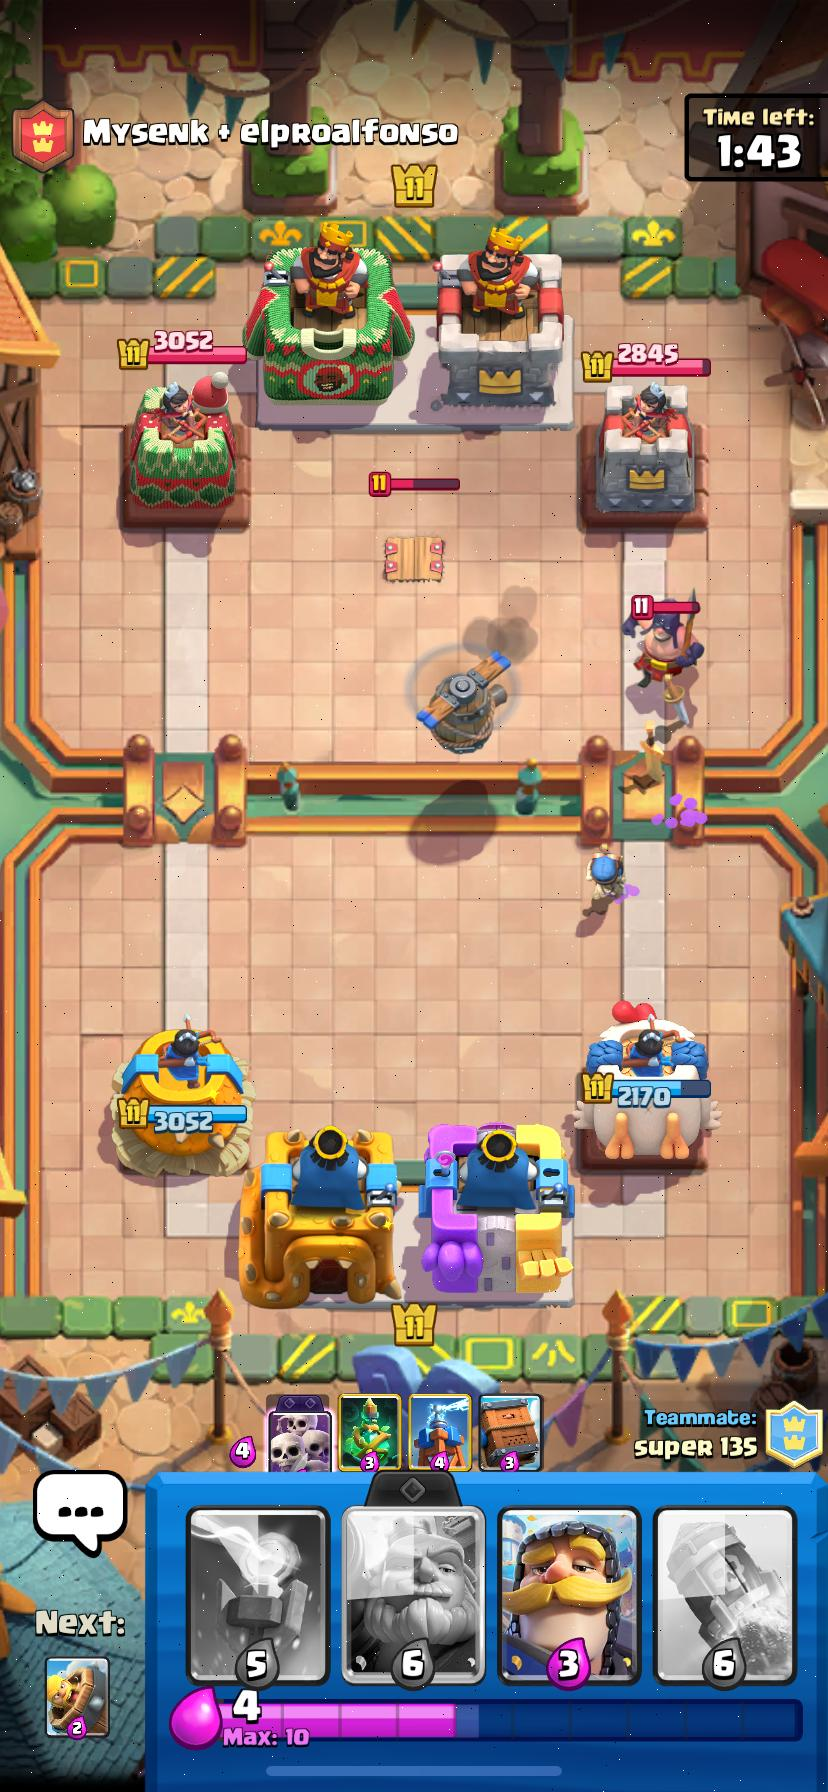EEX: (622, 590, 703, 699)
EKingTower: (245, 223, 413, 408), (438, 247, 567, 410)
ETesla: (385, 537, 444, 579)
EnemyPrincessTower: (124, 374, 247, 526), (595, 381, 694, 519)
OBomber: (587, 846, 629, 909)
OFlyingMachine: (417, 651, 510, 755)
OwnKingTower: (240, 1125, 403, 1306), (419, 1123, 573, 1301)
OwnPrincessTower: (576, 1003, 719, 1166), (113, 1018, 253, 1175)
